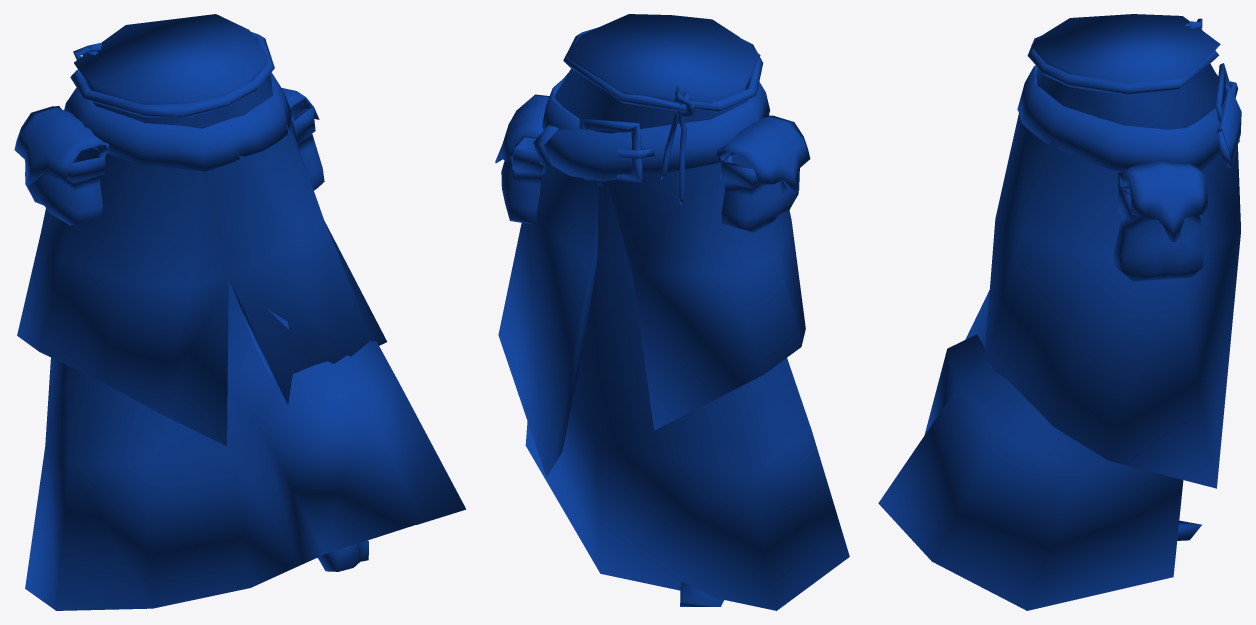
The model's file is bot_000040.obj.
The picture shows the model from 3 angles, left to right: view 1: azimuth 30°, elevation 25°; view 2: azimuth 150°, elevation 25°; view 3: azimuth 270°, elevation 25°; orthographic projection.
Parts seen in each view (by area): view 1: Wizard.001_Plane.001; view 2: Wizard.001_Plane.001; view 3: Wizard.001_Plane.001.
Part boxes in pixels (bbox=[...]): Wizard.001_Plane.001: bbox=[14, 14, 466, 610]; Wizard.001_Plane.001: bbox=[495, 14, 849, 610]; Wizard.001_Plane.001: bbox=[878, 14, 1241, 610].
Size of the model in its own units: 0.7762 by 1.13 by 0.7136.
